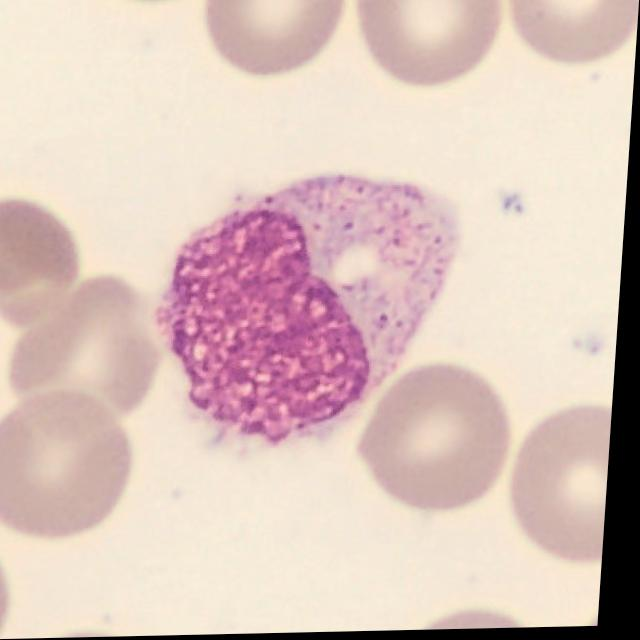Monocito: (164, 177, 459, 442)
